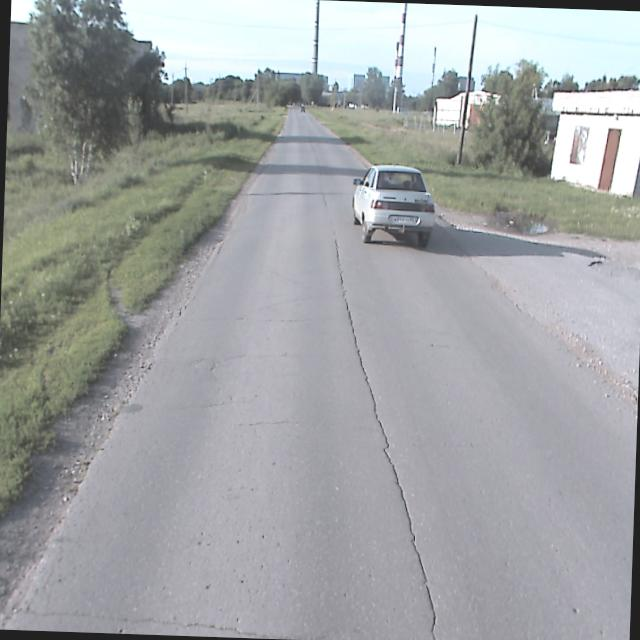road: (0, 105, 640, 640)
